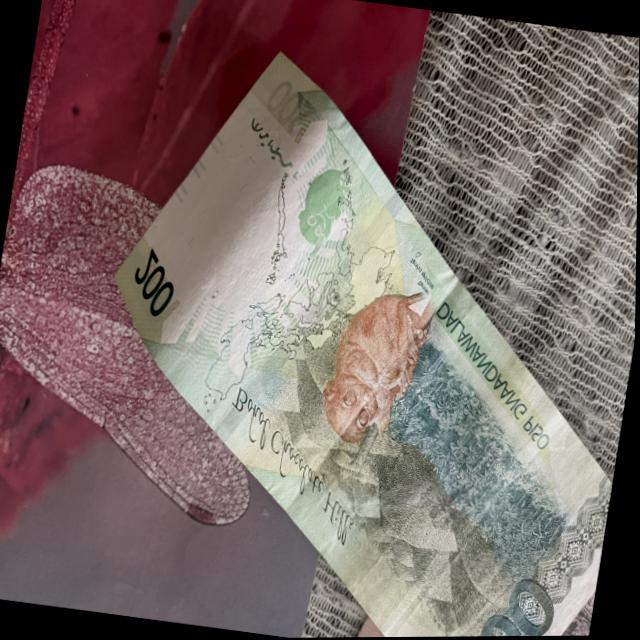200_tarsier: (296, 255, 461, 465)
200_tarsier_watermark: (279, 146, 367, 259)
